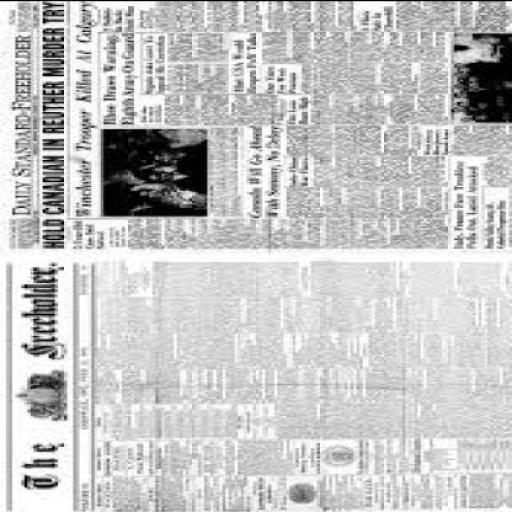paper: (0, 2, 510, 511), (0, 2, 510, 255), (0, 258, 510, 511)
